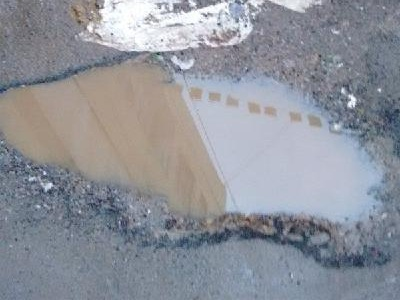pothole: (0, 47, 396, 272)
